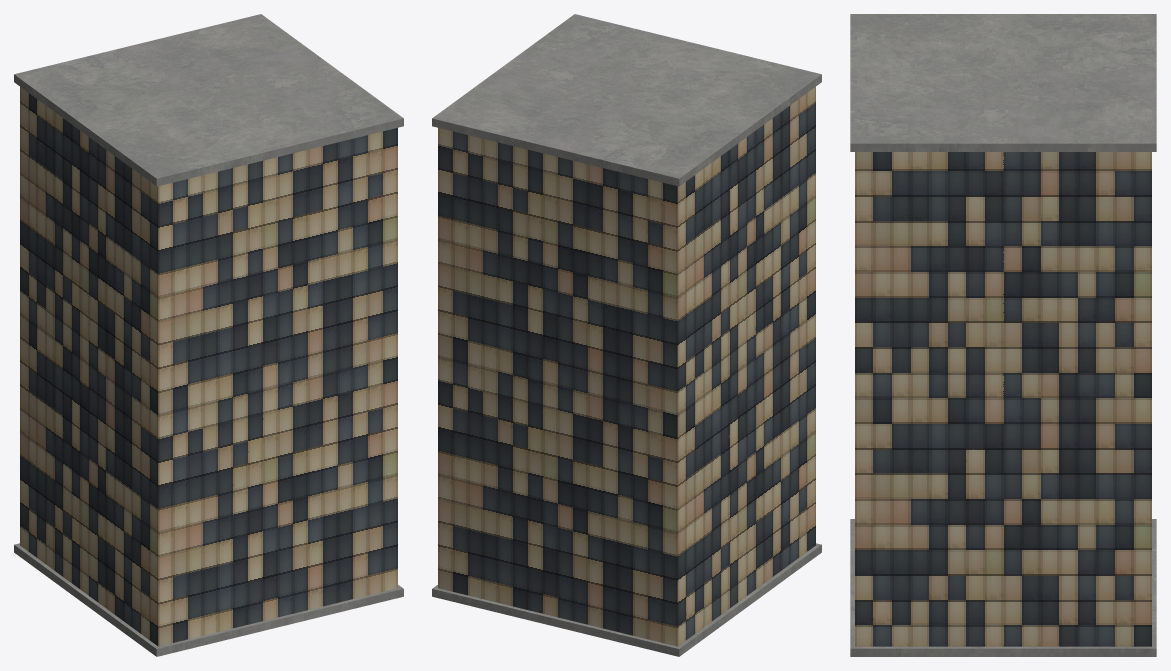
The model's file is building_06.2.glb.
3 views of the same model, side by side, from view 1: azimuth 30°, elevation 25°; view 2: azimuth 150°, elevation 25°; view 3: azimuth 270°, elevation 25° (orthographic). The views are drawn at different scales.
Visible parts, largest first — view 1: building_06_22; view 2: building_06_22; view 3: building_06_22.
Boxes of the visible parts, x1,y1,x2,y2 form: building_06_22: (14,14,403,656); building_06_22: (432,14,821,656); building_06_22: (850,14,1156,656).
Bounding box in the file's own units: 33 × 61 × 33.
Materials: 1 (1 with a texture image).
